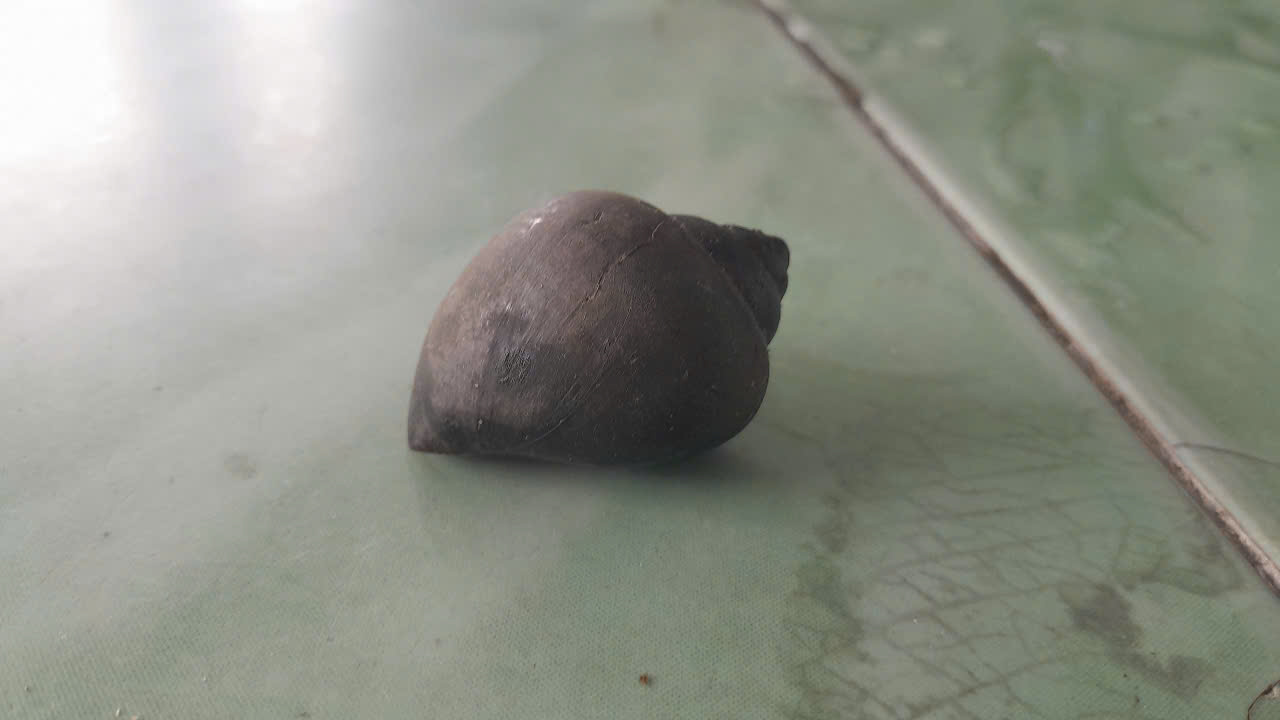oc_buou_den: (379, 159, 828, 494)
